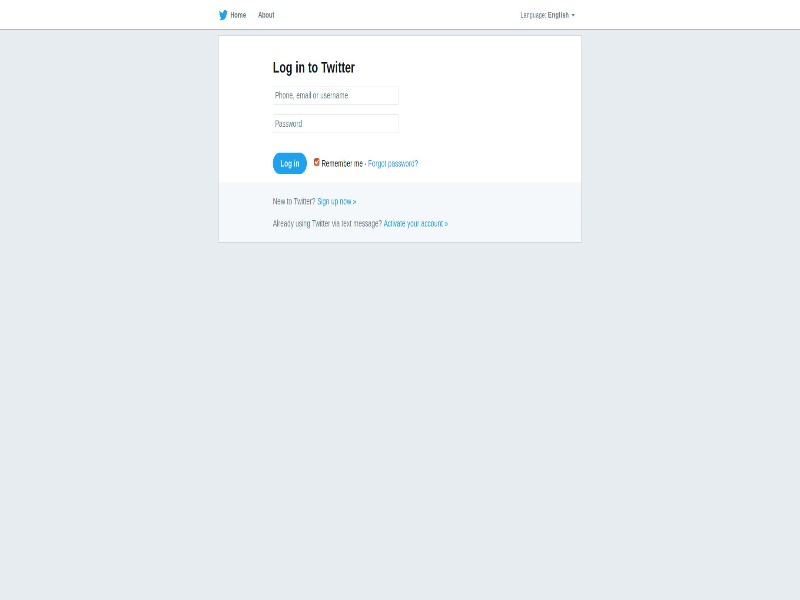button: (272, 152, 307, 173)
input: (270, 112, 400, 132), (272, 85, 400, 105)
